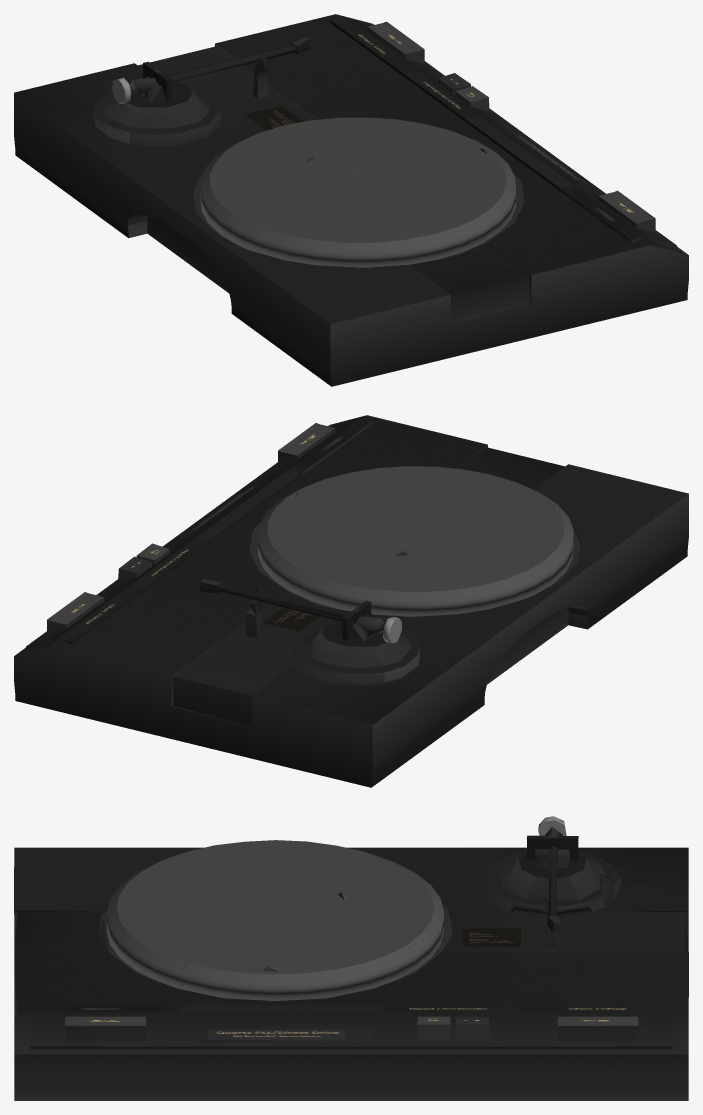
Rendered from nuts.fbx.
3 renders of one model, top to bottom at view 1: azimuth 30°, elevation 25°; view 2: azimuth 150°, elevation 25°; view 3: azimuth 270°, elevation 25°, orthographic. The views are drawn at different scales.
Visible parts, largest first — view 1: Turntable; view 2: Turntable; view 3: Turntable.
Boxes of the visible parts, left/top/right/bottom form: Turntable: left=14, top=14, right=688, bottom=386; Turntable: left=14, top=415, right=688, bottom=787; Turntable: left=14, top=816, right=688, bottom=1100.
Bounding box in the file's own units: 157 × 52.29 × 240.
